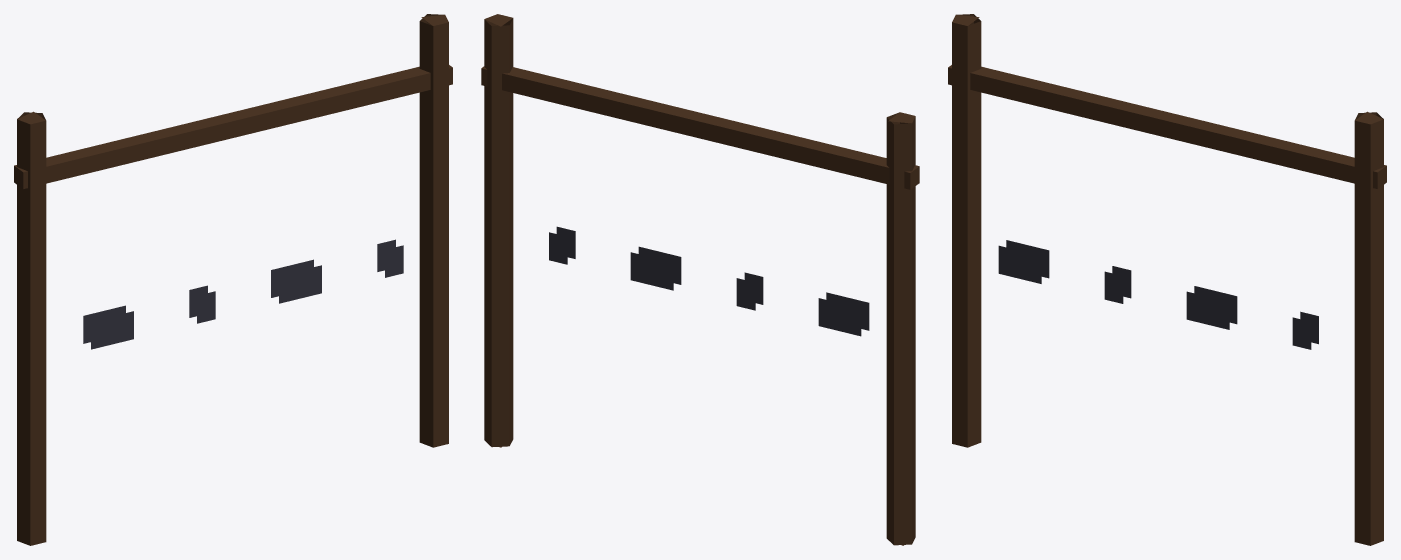
The model's file is prop_tool_rack_lod1.glb.
3 renders of one model, left to right at view 1: azimuth 30°, elevation 25°; view 2: azimuth 150°, elevation 25°; view 3: azimuth 330°, elevation 25°, orthographic.
Parts seen in each view (by area): view 1: prop_tool_rack_lod1; view 2: prop_tool_rack_lod1; view 3: prop_tool_rack_lod1.
Boxes of the visible parts, box(x1,y1,x2,y2) form: prop_tool_rack_lod1: box(14, 14, 452, 545); prop_tool_rack_lod1: box(481, 14, 919, 545); prop_tool_rack_lod1: box(948, 14, 1386, 545).
Bounding box in the file's own units: 1.6 × 1.5 × 0.135.
